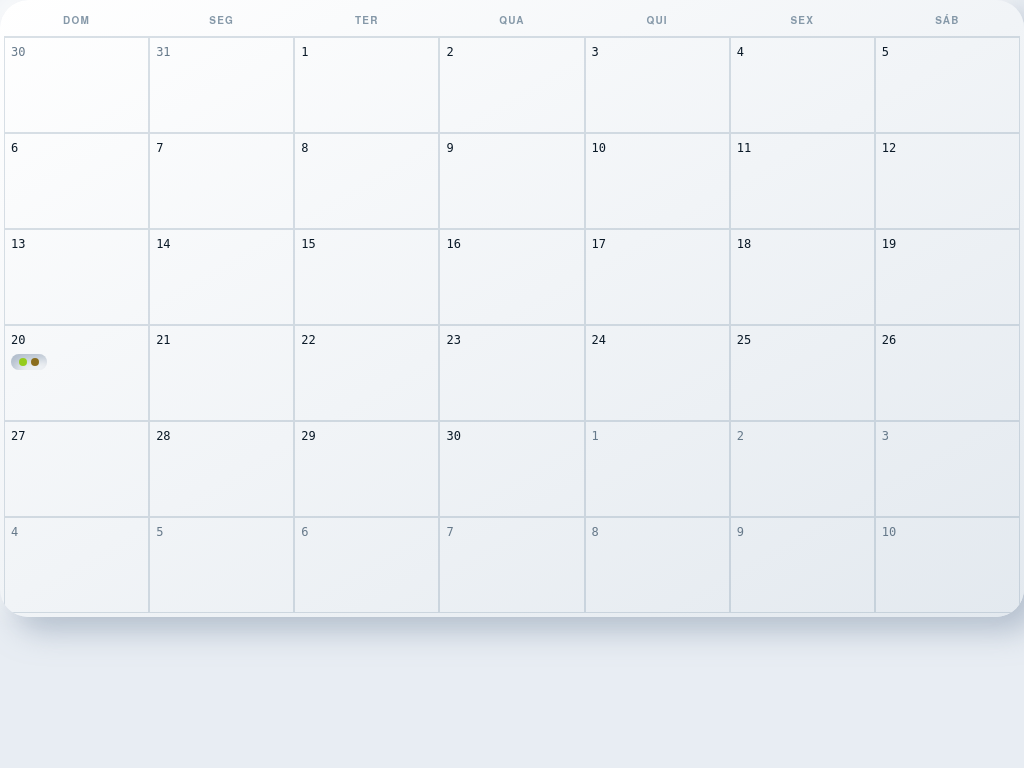
Test case: CalendarGrid › opens a details menu listing every item for the day when its dot is clicked
Click the button named "1 tarefa" at (29, 362), box [11, 354, 47, 370]
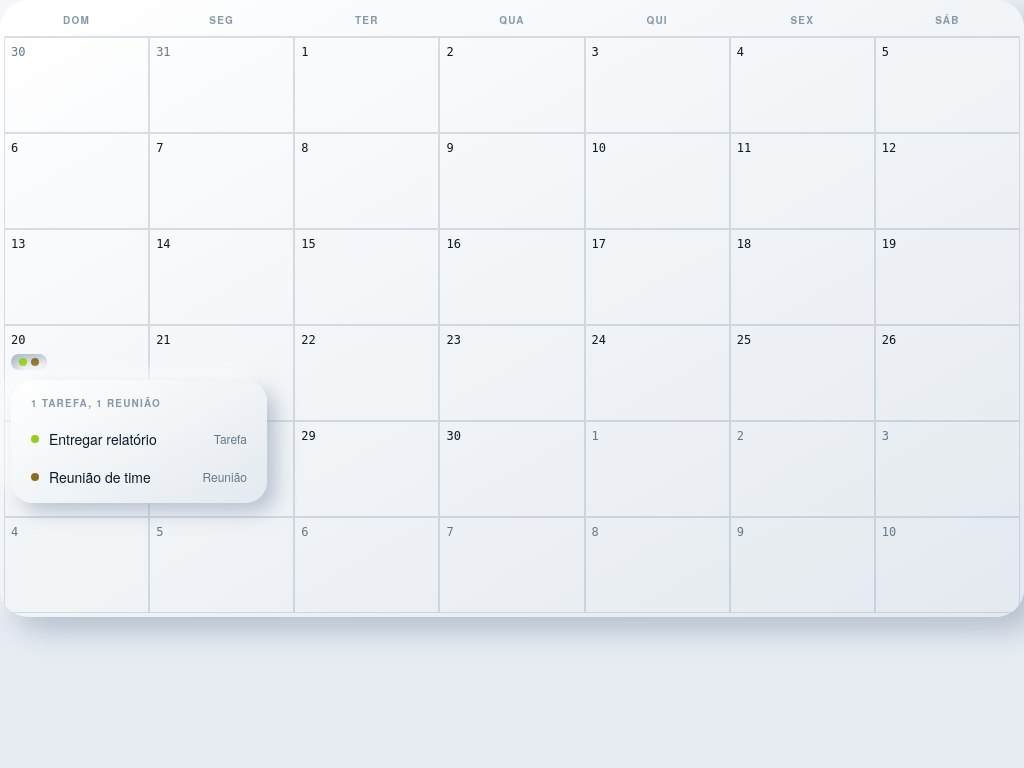
Result: the text "Entregar relatório" is shown at [49, 429, 157, 449]
Result: the text "Reunião de time" is shown at [49, 467, 151, 487]
